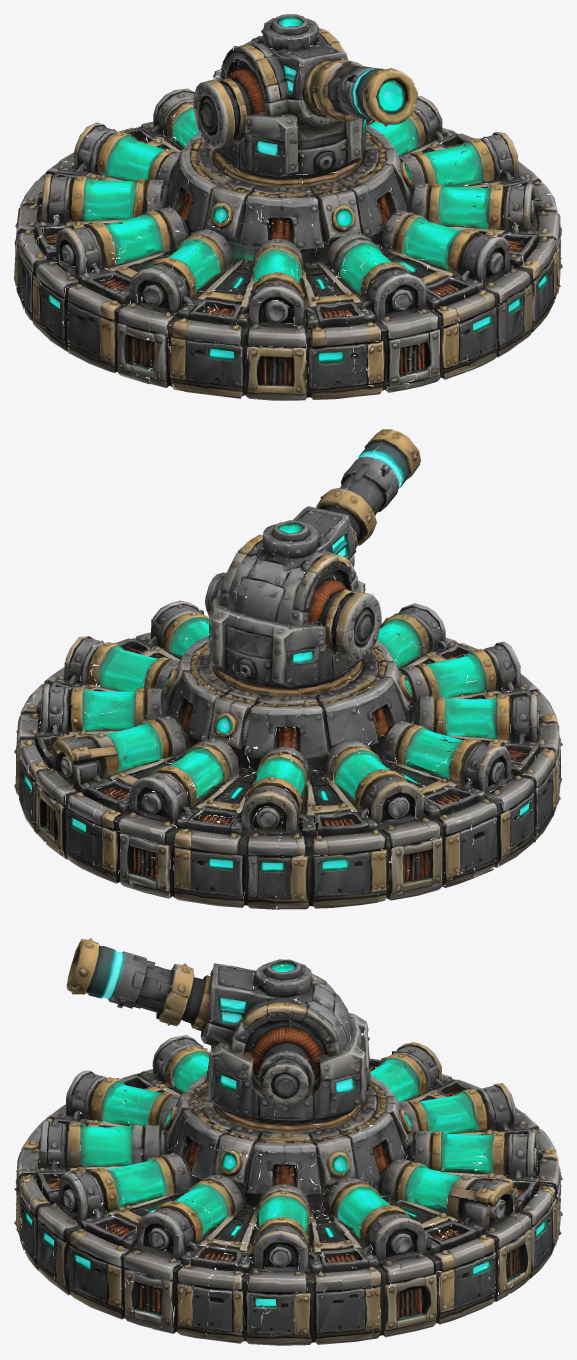
File: warrior-5-tier-2.glb
3 renders of one model, top to bottom at view 1: azimuth 30°, elevation 25°; view 2: azimuth 150°, elevation 25°; view 3: azimuth 270°, elevation 25°, orthographic.
Parts seen in each view (by area): view 1: fixed-platform, moving-assembly; view 2: fixed-platform, moving-assembly; view 3: fixed-platform, moving-assembly.
Boxes of the visible parts, x1,y1,x2,y2 form: fixed-platform: [14, 85, 562, 400]; moving-assembly: [193, 14, 417, 179]; fixed-platform: [14, 600, 562, 909]; moving-assembly: [205, 429, 420, 689]; fixed-platform: [14, 1033, 562, 1345]; moving-assembly: [66, 938, 370, 1123].
Size of the model in its own units: 0.8288 by 0.4888 by 0.8343.
Materials: 2 (2 with a texture image).
